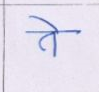e_matra: (28, 15, 61, 30)
